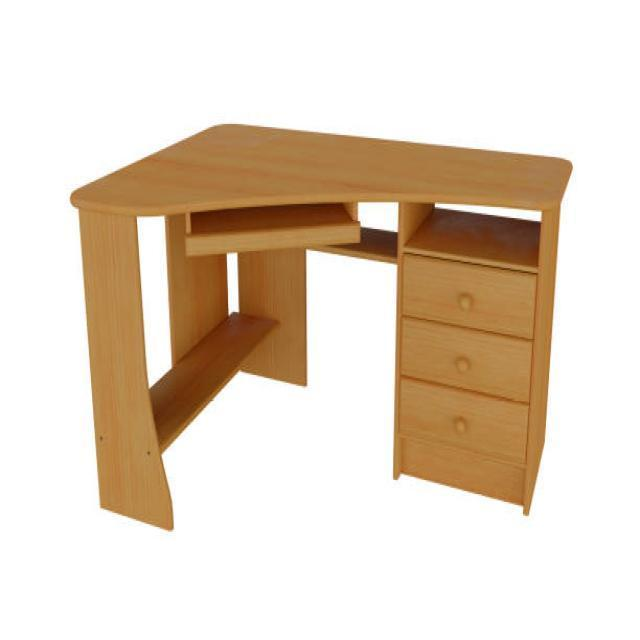table: (69, 120, 573, 530)
